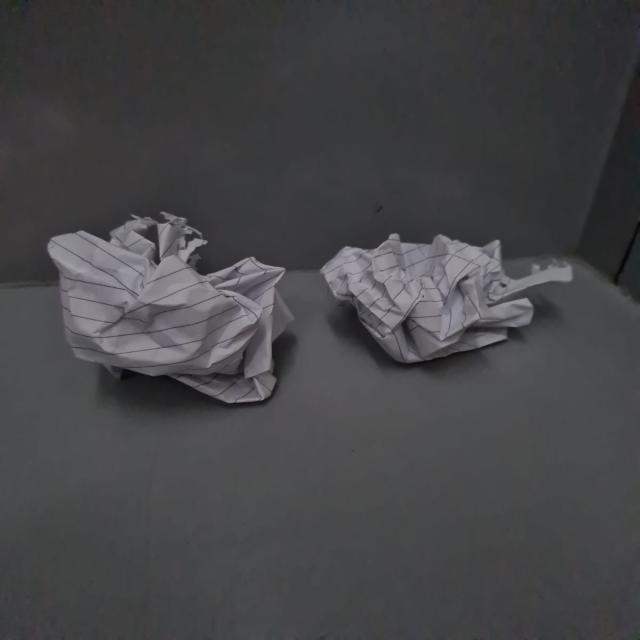Paper: (51, 213, 290, 405), (328, 232, 573, 364)
